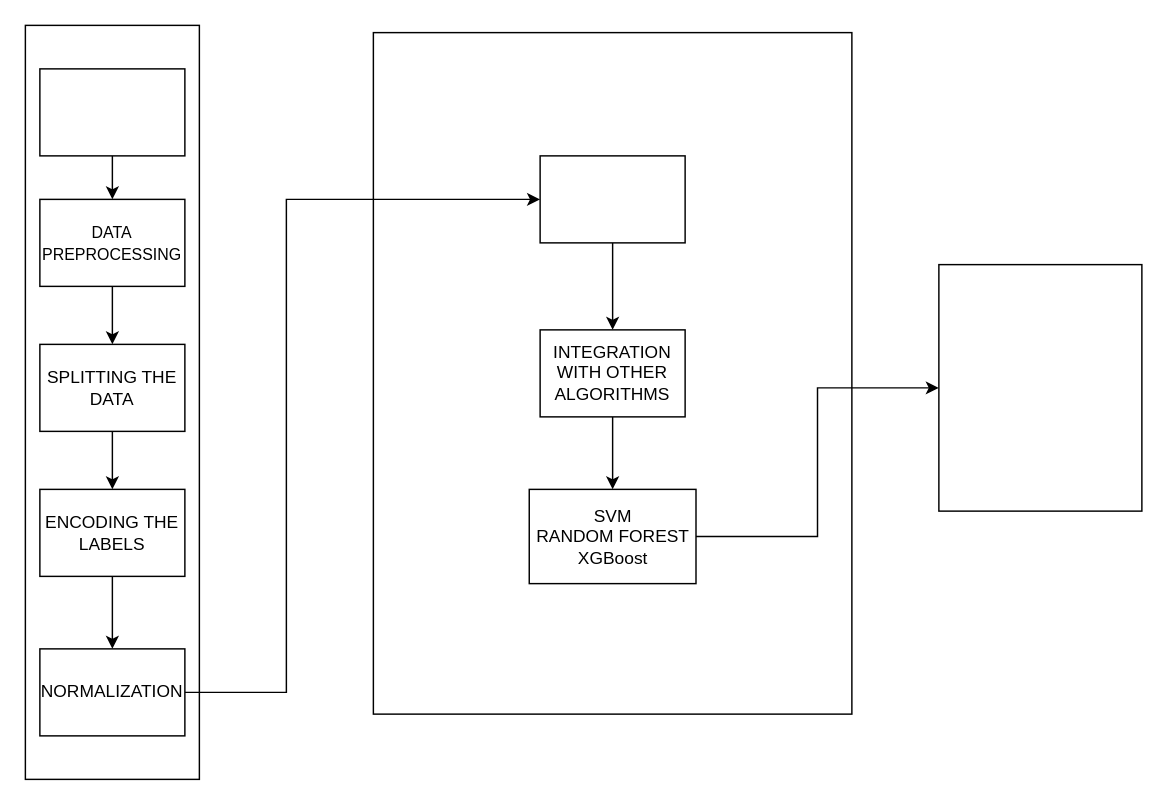
Image size: 1167x805. Some labels were removed from this diagram. Here are the shapes that lost their labels. From the top down, the box of each, then its label:
(38, 67, 185, 156): DATA IMPORT
(539, 154, 685, 243): NEURAL NETWORK
(937, 263, 1142, 511): RESULTS /ACCURACY
